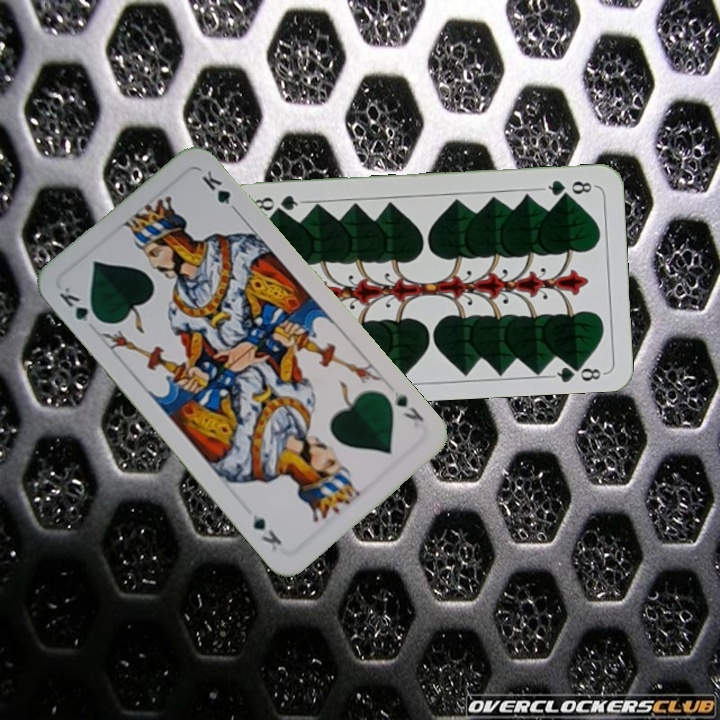G8: (538, 176, 598, 200)
GK: (54, 282, 104, 327), (389, 387, 427, 424)
